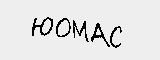А: (88, 22, 110, 48)
М: (70, 19, 90, 41)
О: (54, 17, 73, 38)
С: (108, 22, 123, 50)
Ю: (28, 15, 54, 36)
